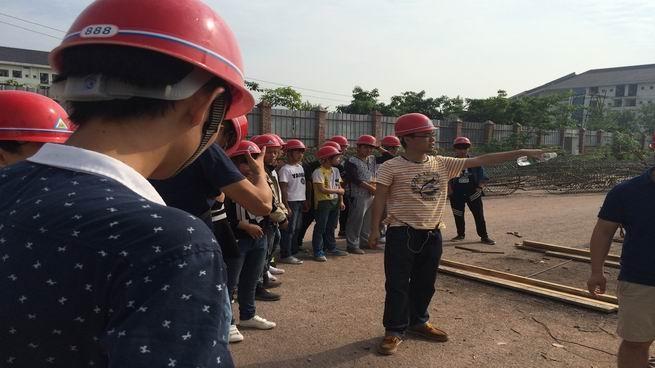Helmet: (48, 0, 255, 162), (394, 111, 437, 157), (453, 135, 470, 156)
NoVest: (379, 157, 451, 232)
